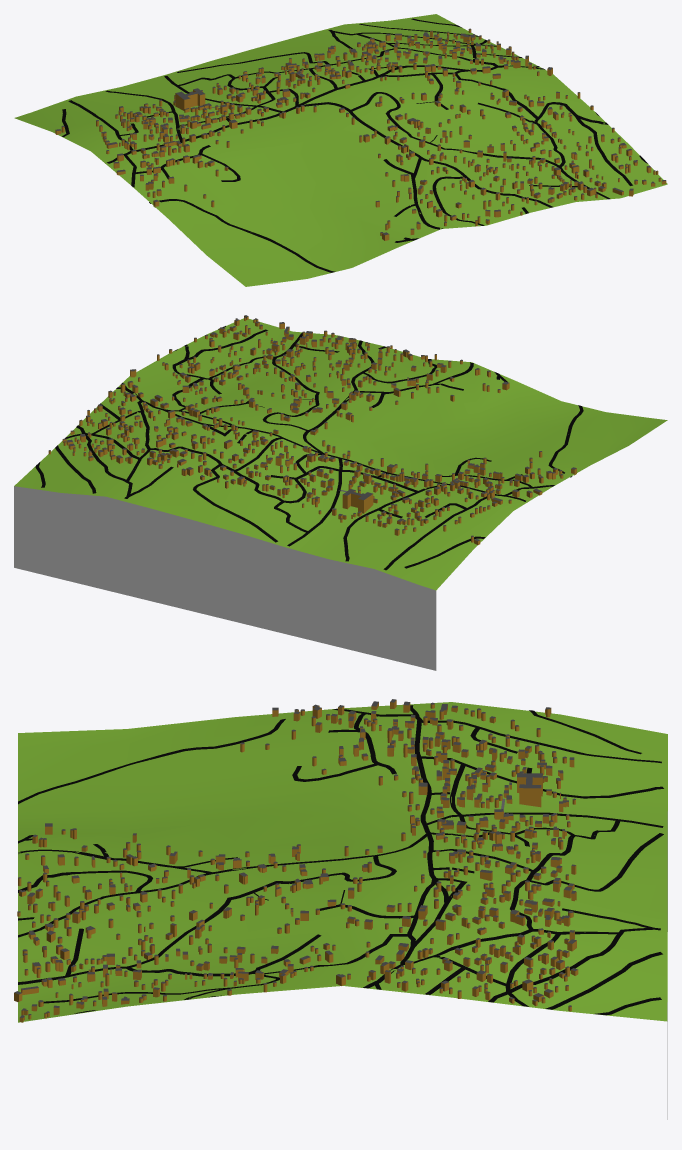
The model's file is tile_01_07.glb.
3 renders of one model, top to bottom at view 1: azimuth 30°, elevation 25°; view 2: azimuth 150°, elevation 25°; view 3: azimuth 270°, elevation 25°, orthographic. The views are drawn at different scales.
Parts seen in each view (by area): view 1: Terrain_01_07, Ub_small.osm_buildings_01_07, Ub_small.osm_roads_residential_01_07, Ub_small.osm_roads_tertiary_01_07; view 2: Terrain_01_07, Ub_small.osm_buildings_01_07, Ub_small.osm_roads_residential_01_07, Ub_small.osm_roads_tertiary_01_07; view 3: Terrain_01_07, Ub_small.osm_buildings_01_07, Ub_small.osm_roads_residential_01_07, Ub_small.osm_roads_tertiary_01_07.
Part boxes in pixels (x1=…): Terrain_01_07: x1=14, y1=14, x2=667, y2=286; Ub_small.osm_buildings_01_07: x1=55, y1=28, x2=666, y2=240; Ub_small.osm_roads_residential_01_07: x1=62, y1=18, x2=647, y2=272; Ub_small.osm_roads_tertiary_01_07: x1=297, y1=102, x2=553, y2=225; Terrain_01_07: x1=14, y1=318, x2=667, y2=670; Ub_small.osm_buildings_01_07: x1=48, y1=315, x2=576, y2=544; Ub_small.osm_roads_residential_01_07: x1=35, y1=326, x2=583, y2=570; Ub_small.osm_roads_tertiary_01_07: x1=303, y1=340, x2=436, y2=453; Terrain_01_07: x1=18, y1=702, x2=667, y2=1119; Ub_small.osm_buildings_01_07: x1=14, y1=699, x2=578, y2=1022; Ub_small.osm_roads_residential_01_07: x1=18, y1=705, x2=663, y2=1015; Ub_small.osm_roads_tertiary_01_07: x1=18, y1=833, x2=430, y2=937.
Size of the model in its own units: 983 by 267 by 935.
